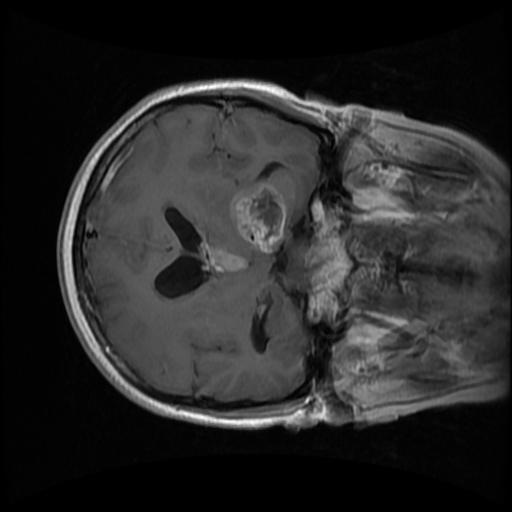glioma: (199, 181, 286, 274)
